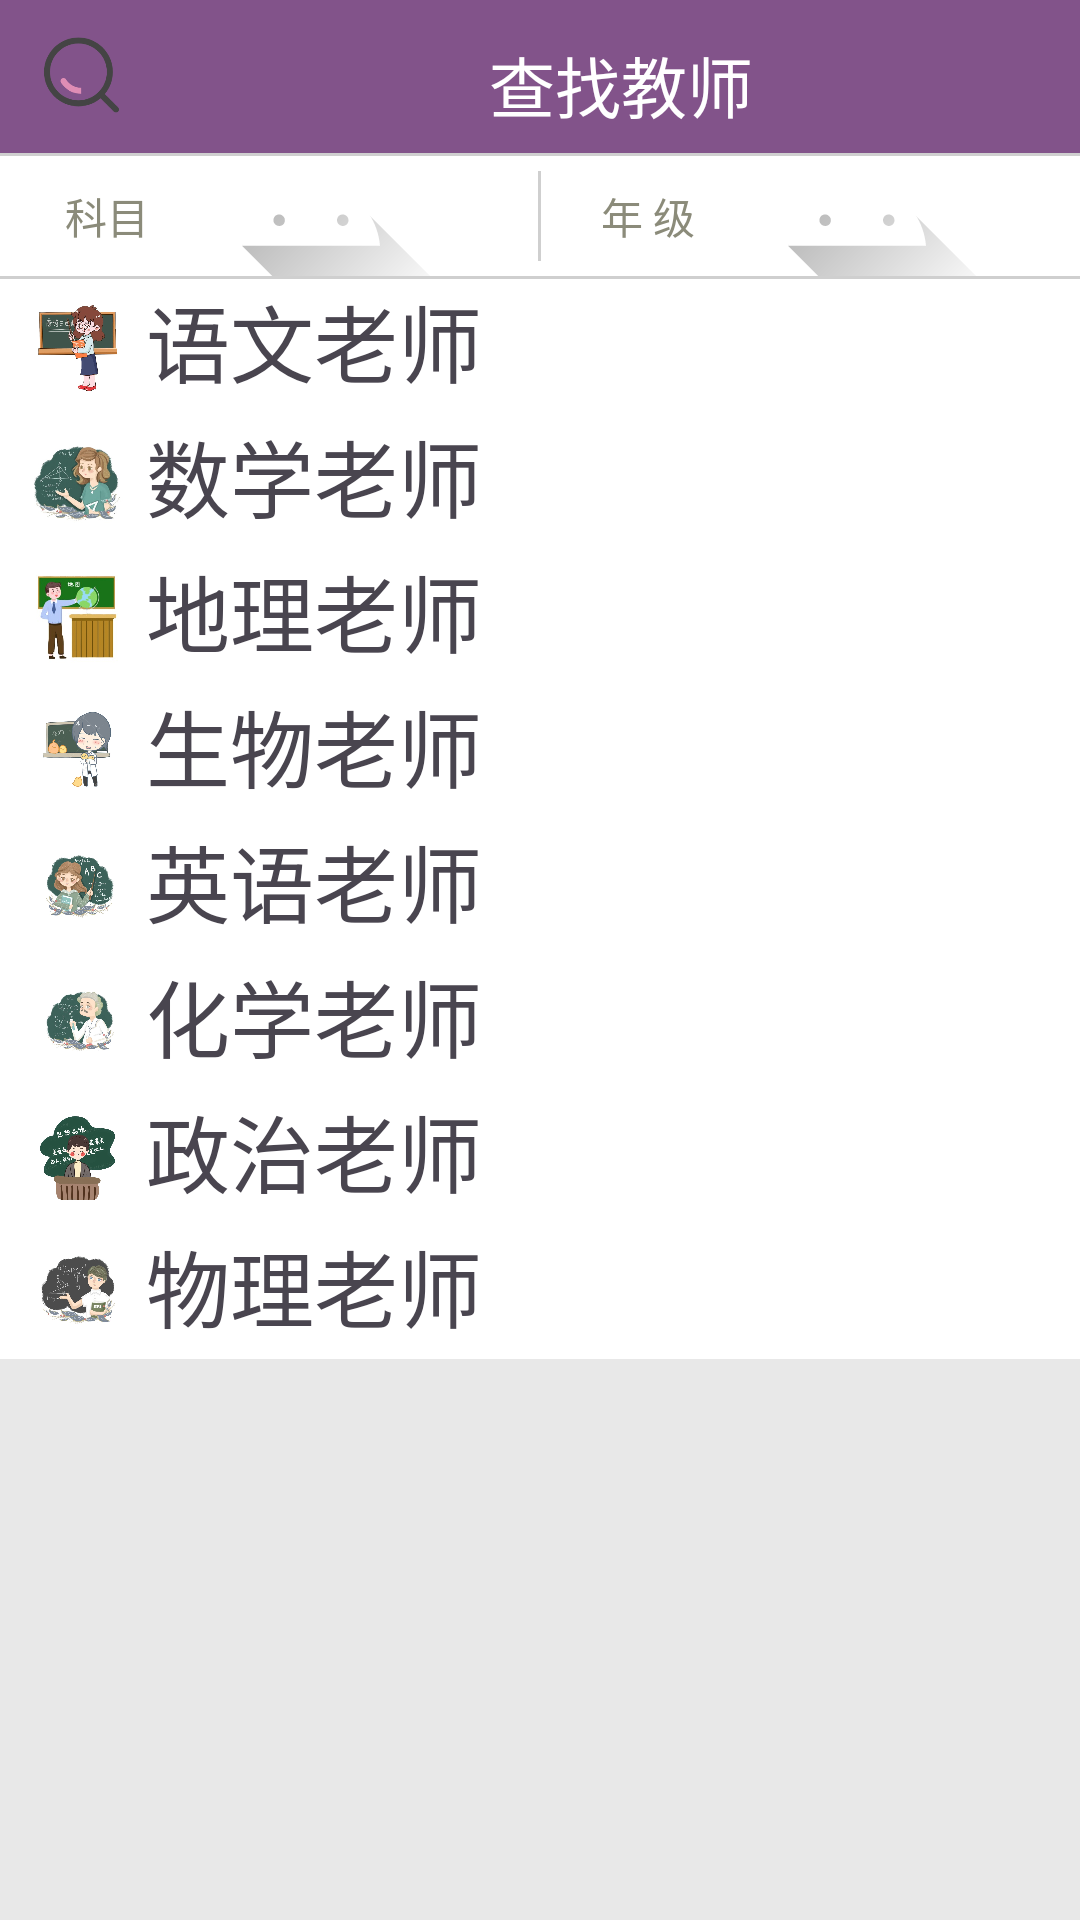

Where to tap for icons on this 1080px×1920px app screen, as point (x, y):
dililaoshi: point (77, 617)
huaxuelaoshi: point (80, 1021)
shengwulaoshi: point (77, 749)
shuxuelaoshi: point (77, 483)
wulilaoshi: point (78, 1290)
yingyulaos: point (80, 886)
yuwenlaoshi: point (77, 348)
zhengzhilaoshi: point (77, 1158)
